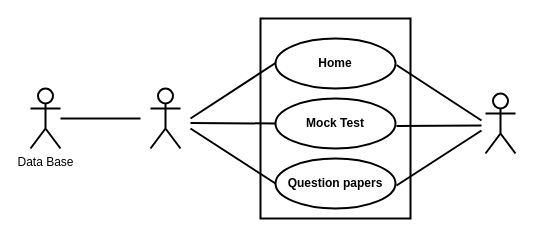
Image size: 533x244. Some labels were removed from this diagram. Here are the shapes that lost their labels. From the top down, the centre of each, then its label:
At (165,118): "Admin".
At (500,123): "User".
